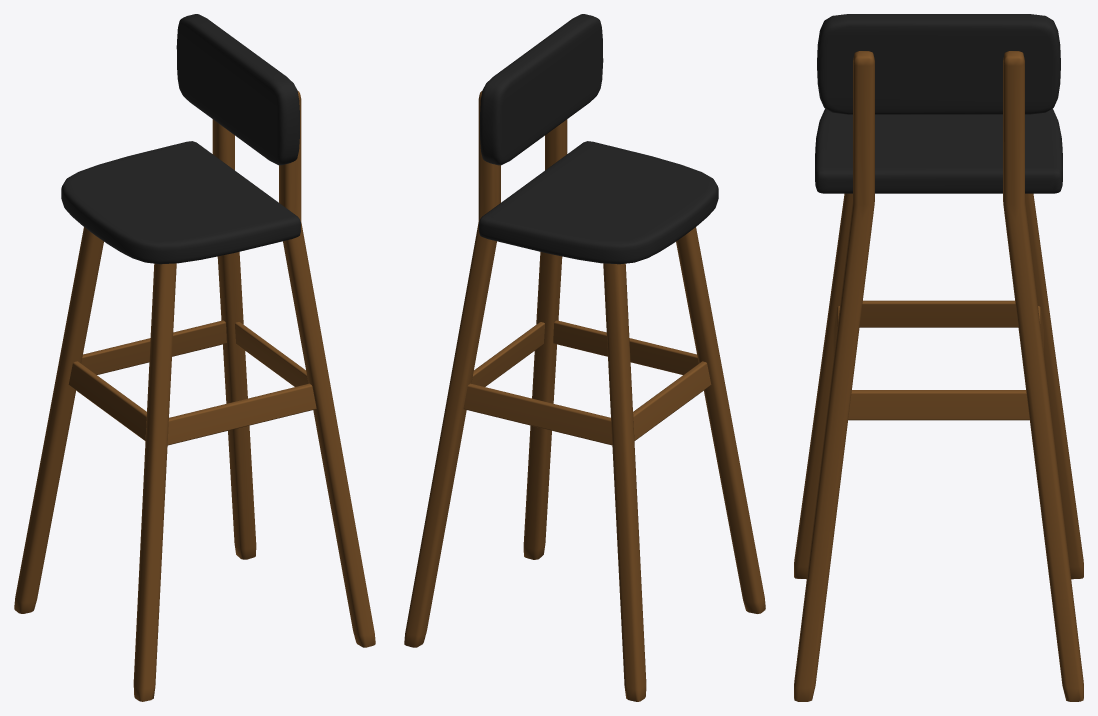
The model's file is barstool_01_wooden_black.fbx.
The picture shows the model from 3 angles, left to right: view 1: azimuth 30°, elevation 25°; view 2: azimuth 150°, elevation 25°; view 3: azimuth 270°, elevation 25°; orthographic projection. The views are drawn at different scales.
Parts seen in each view (by area): view 1: barstool_01_wooden_black; view 2: barstool_01_wooden_black; view 3: barstool_01_wooden_black.
Boxes of the visible parts, x1,y1,x2,y2 form: barstool_01_wooden_black: (14,14,375,701); barstool_01_wooden_black: (404,14,765,701); barstool_01_wooden_black: (794,14,1083,701).
Size of the model in its own units: 50.15 by 116 by 47.09.
1 material, 1 textured.
